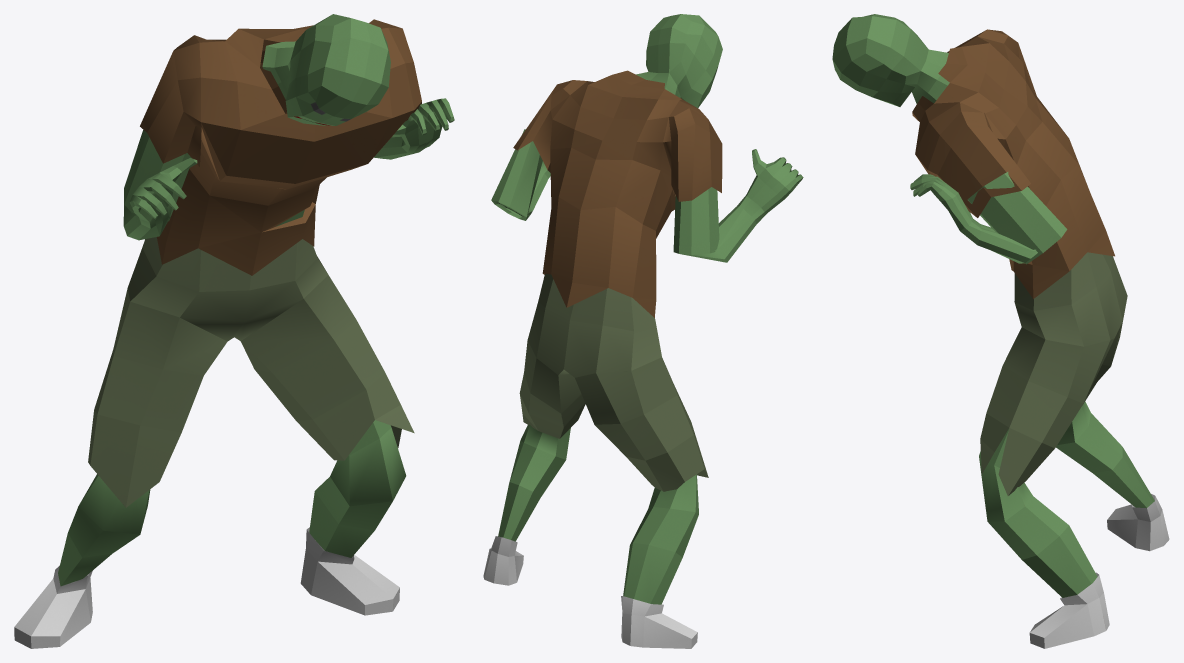
Rendered from ZombieAttack(61).obj.
The picture shows the model from 3 angles, left to right: view 1: azimuth 30°, elevation 25°; view 2: azimuth 150°, elevation 25°; view 3: azimuth 270°, elevation 25°; orthographic projection. The views are drawn at different scales.
Visible parts, largest first — view 1: Object001; view 2: Object001; view 3: Object001.
Boxes of the visible parts, x1=… form: Object001: x1=14, y1=14, x2=454, y2=648; Object001: x1=483, y1=14, x2=803, y2=648; Object001: x1=832, y1=14, x2=1169, y2=648.
Size of the model in its own units: 25.72 by 50.04 by 26.72.
